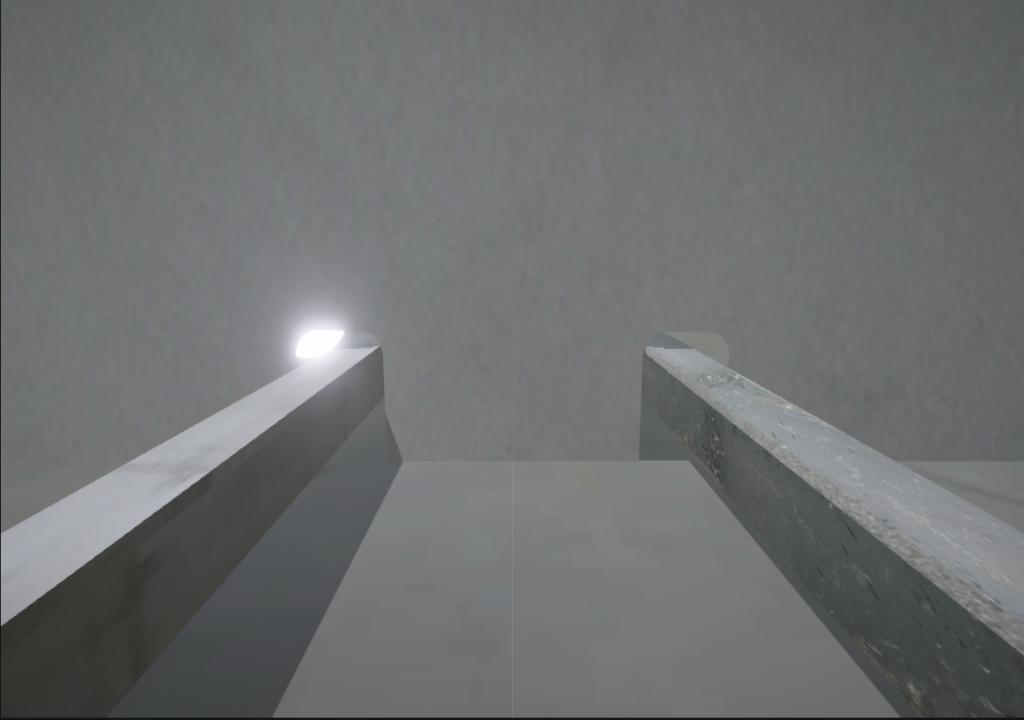fillet_yong_jeop_jang: (385, 448, 649, 476)
